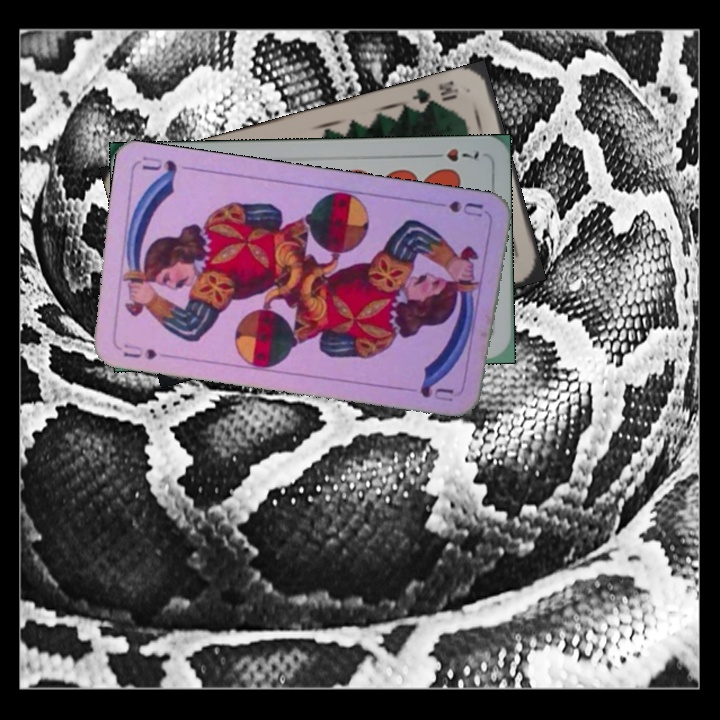G10: (407, 76, 461, 112)
H7: (425, 145, 481, 165)
SU: (427, 196, 486, 220), (113, 340, 160, 362)
